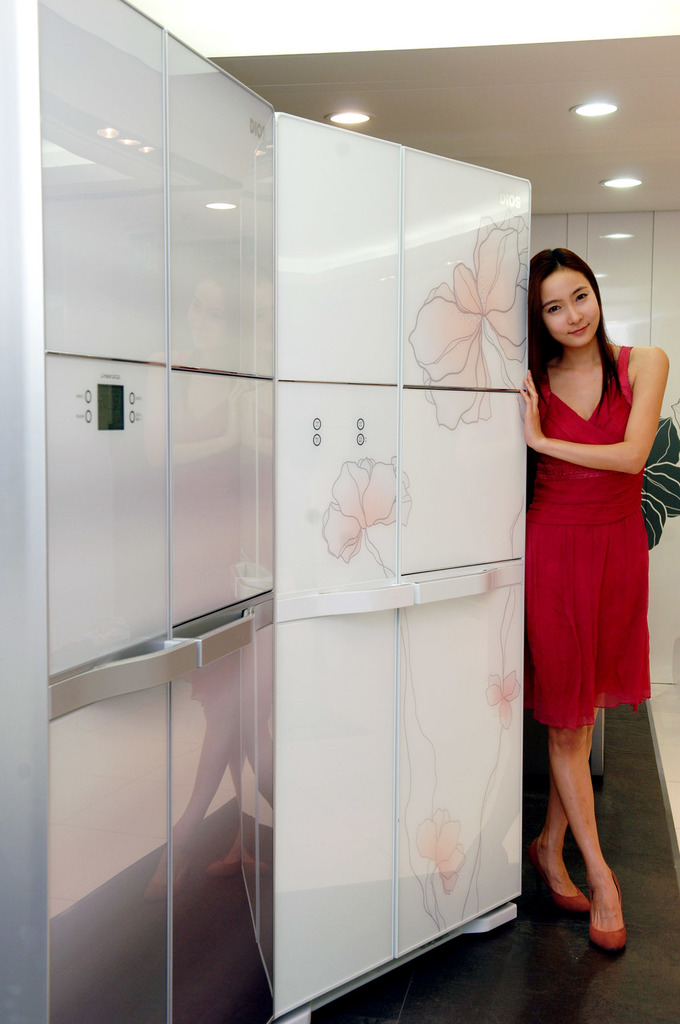handle: (50, 630, 202, 722), (285, 580, 416, 636), (177, 604, 262, 674), (408, 566, 509, 619)
refrigerator door: (48, 354, 172, 1021), (277, 384, 397, 973), (172, 367, 274, 1024), (400, 391, 525, 909), (48, 13, 167, 347), (167, 33, 277, 368), (278, 115, 401, 383), (402, 174, 528, 383)
